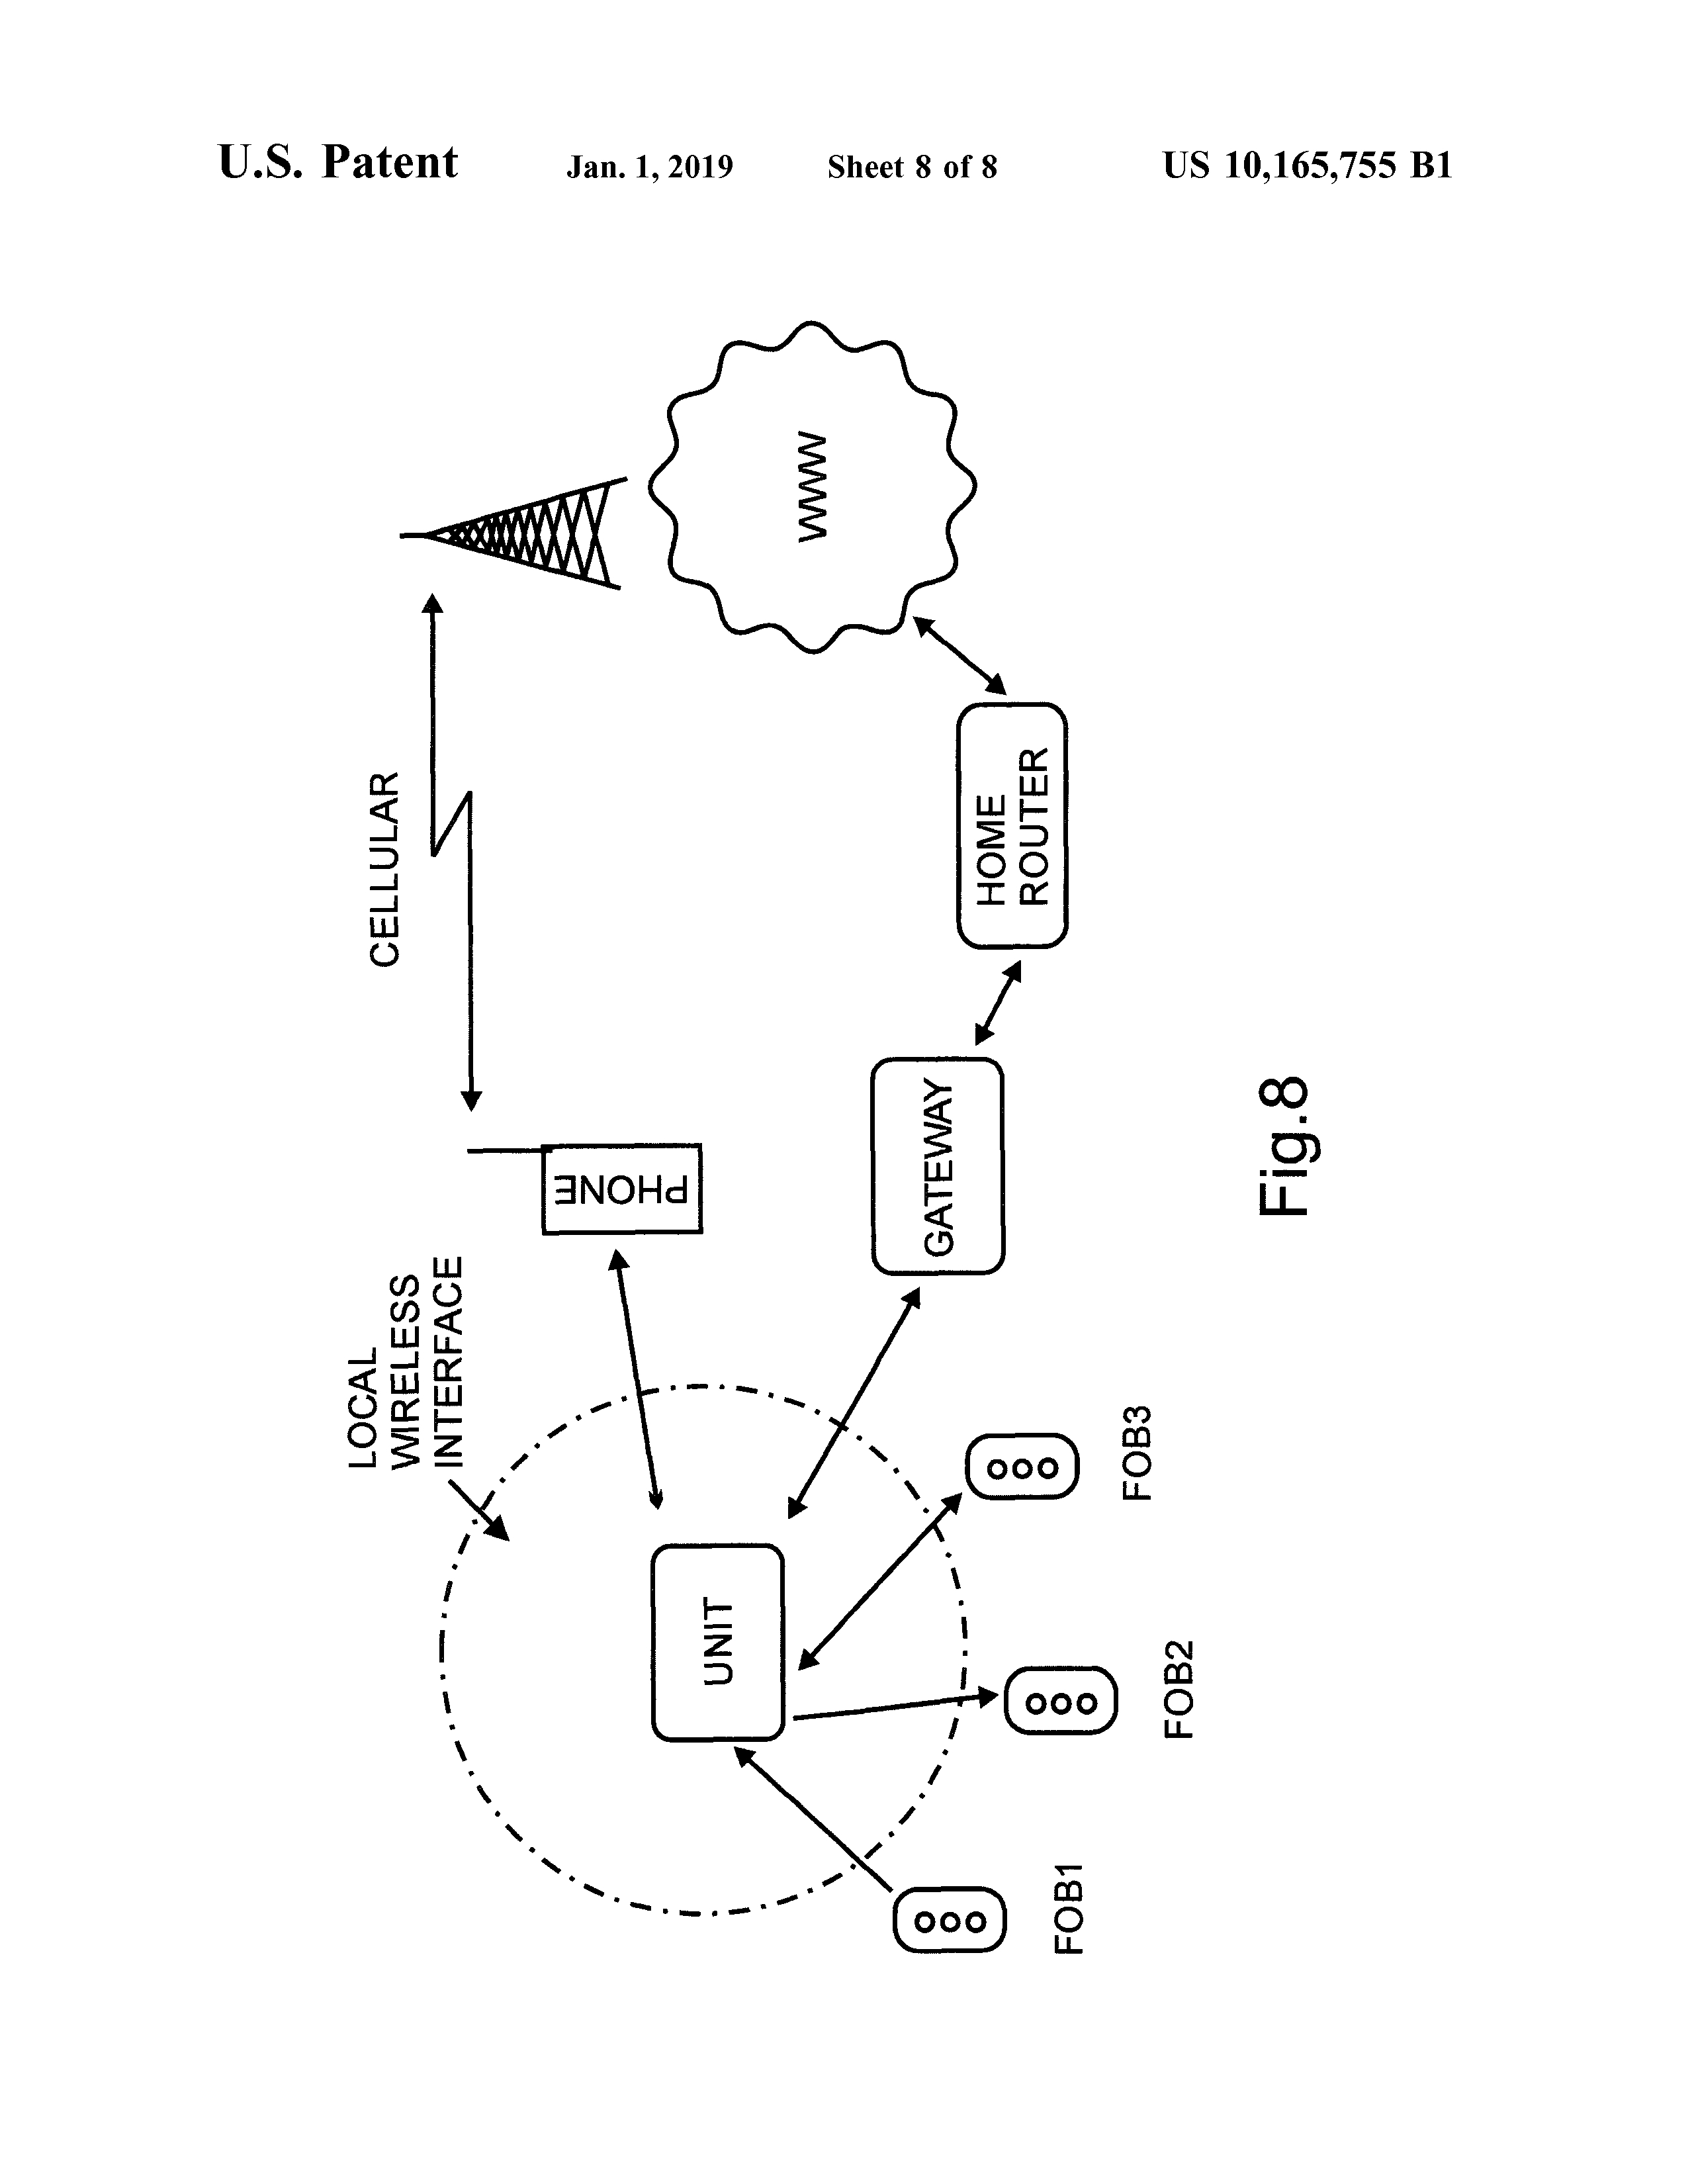patent image: (283, 273, 1347, 2019)
